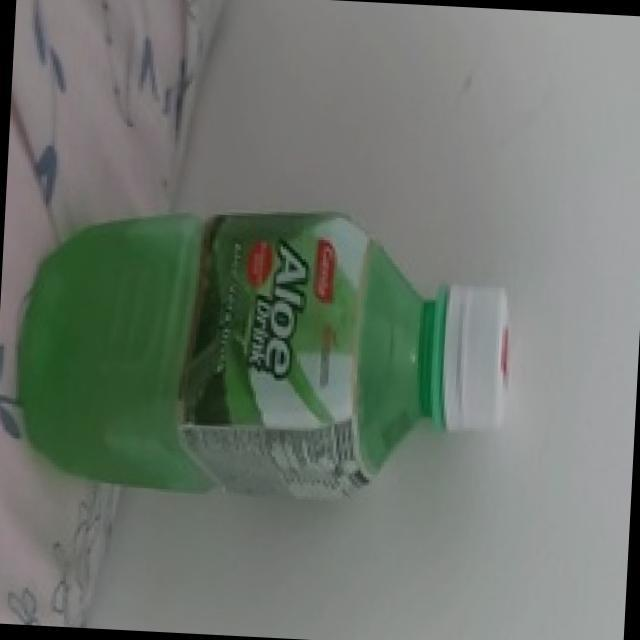good: (0, 170, 558, 533)
